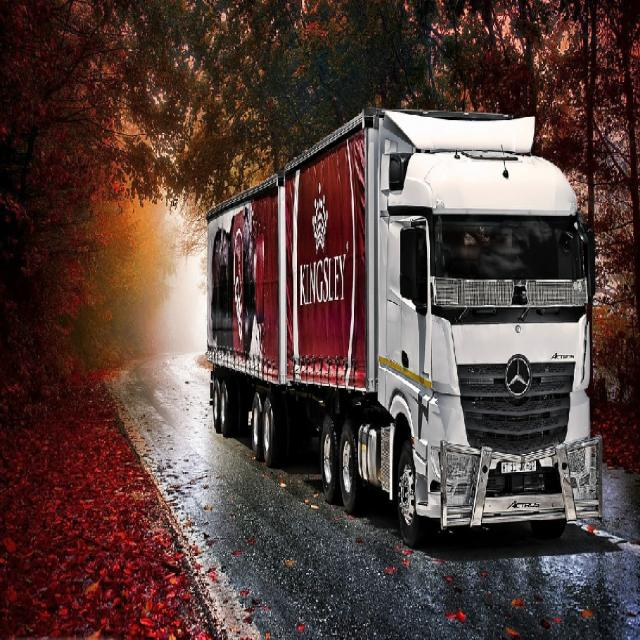Heavy Duty Truck: (206, 108, 614, 555)
